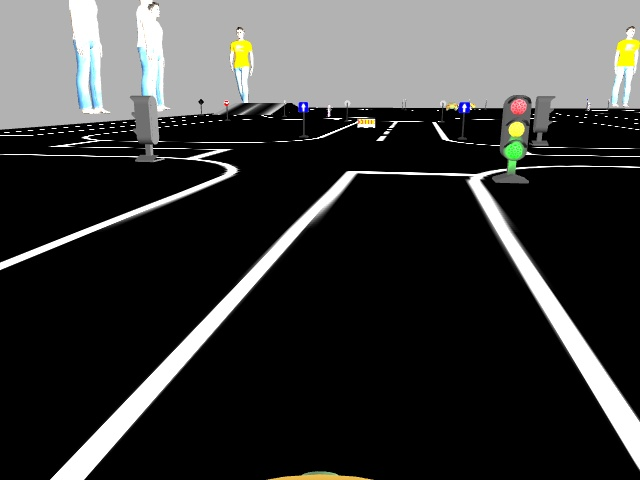ClosedRoadStand: (357, 118, 373, 128)
OneWay: (459, 101, 469, 113), (298, 101, 307, 111)
TrafficLight: (500, 95, 530, 159)
